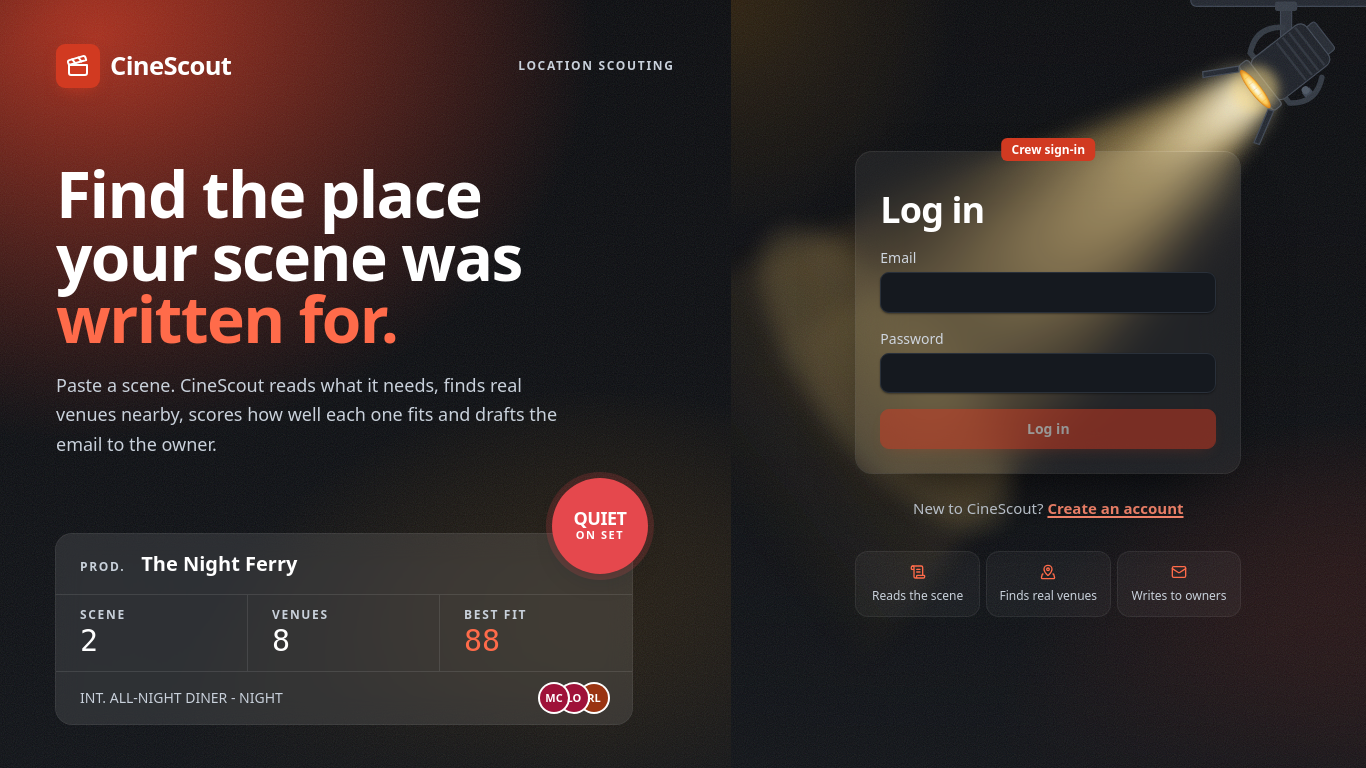
a venue’s holds and dates › are only read by a viewer
The width and height of the screenshot is (1366, 768).
Type "ada@example.com" into the field labelled "Email" at (1048, 293), box x1=880 y1=272 x2=1216 y2=313
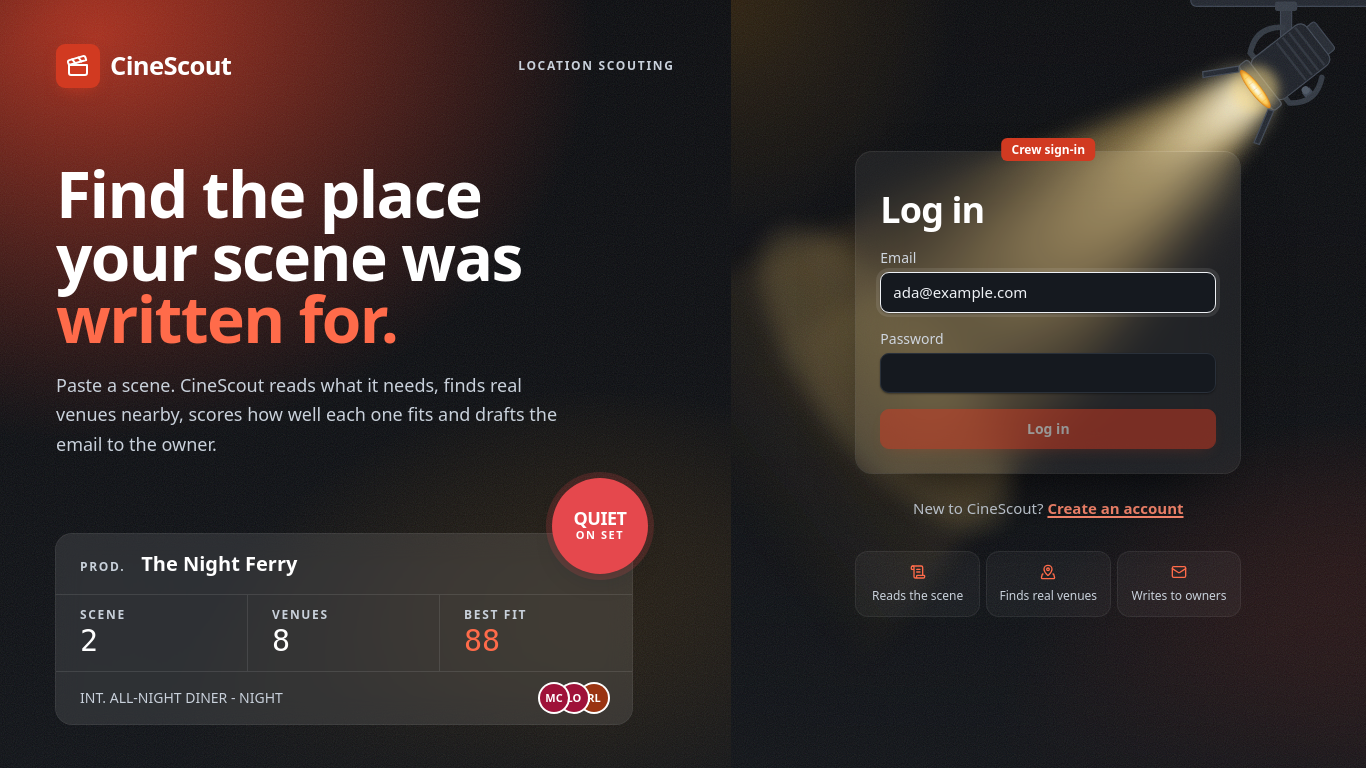
Type "a-long-password" into the password field labelled "Password" at (1048, 373), box x1=880 y1=353 x2=1216 y2=393
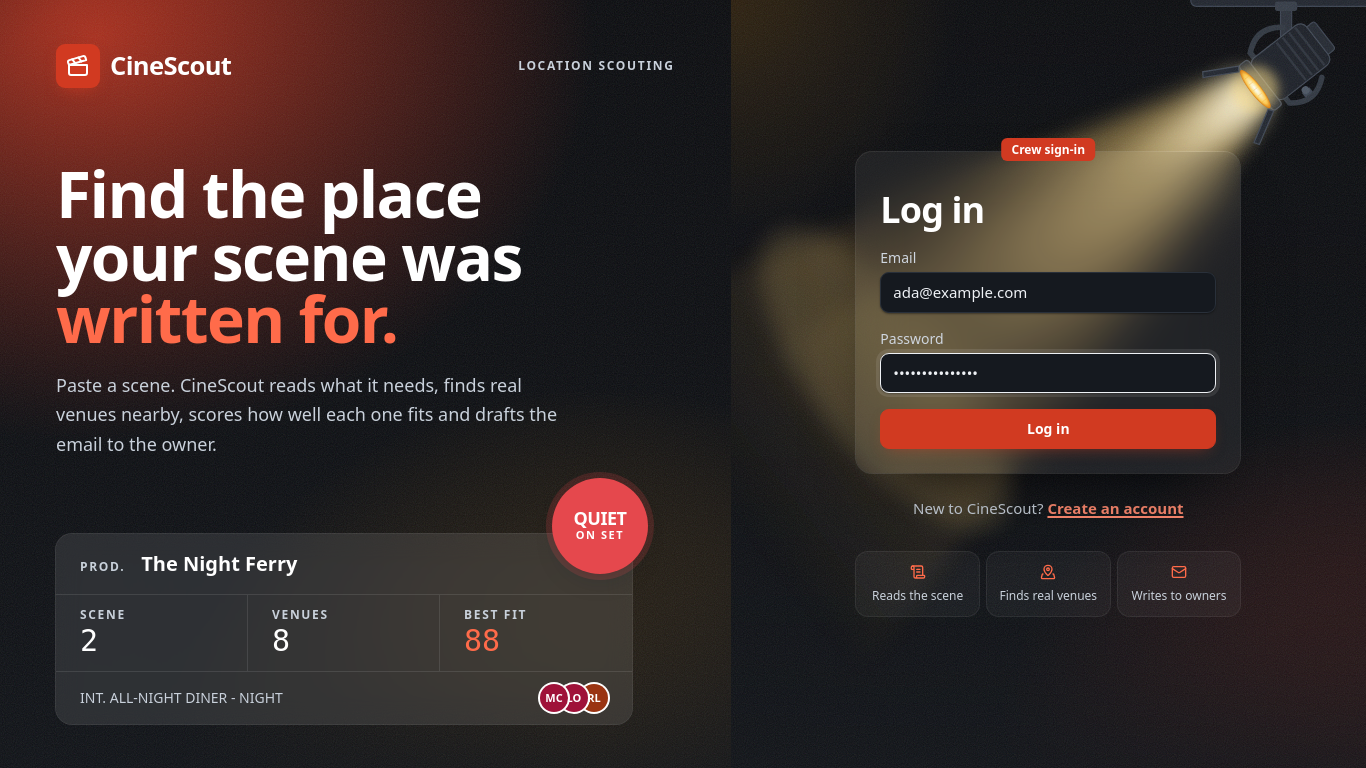
Click the button "Log in" at (1048, 429), box x1=880 y1=409 x2=1216 y2=449
(page scrolled)
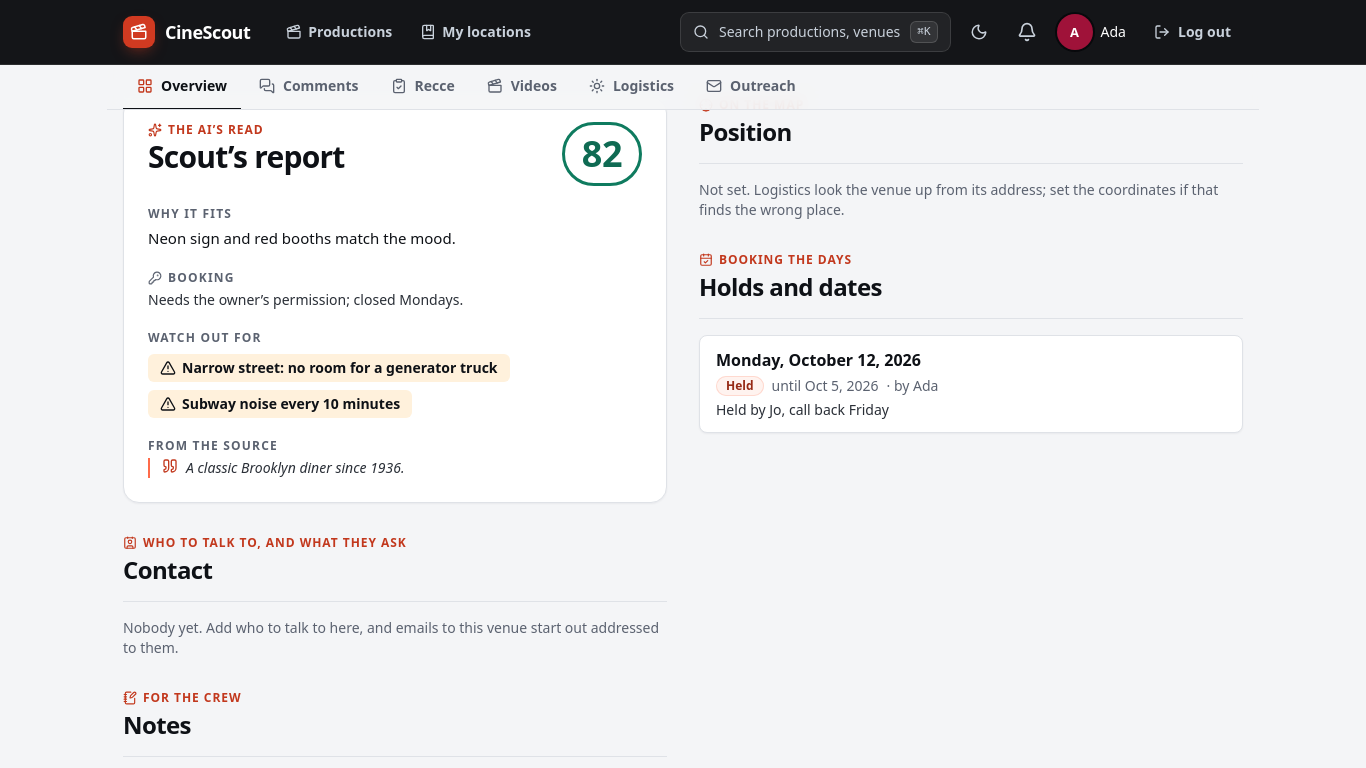
Expected: the list named "Days at this venue" shows "Held", x1=726 y1=377 x2=754 y2=394
